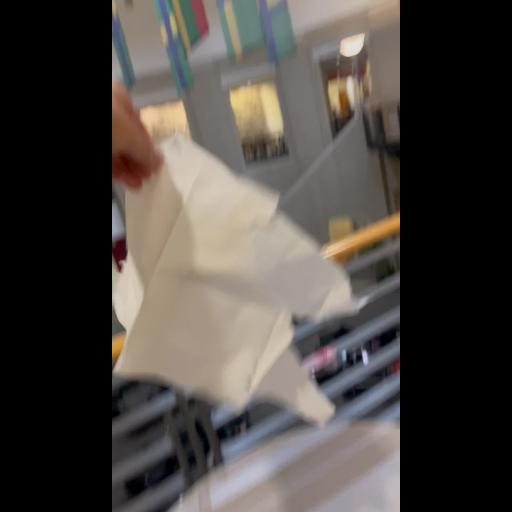napkin: (113, 129, 355, 425)
